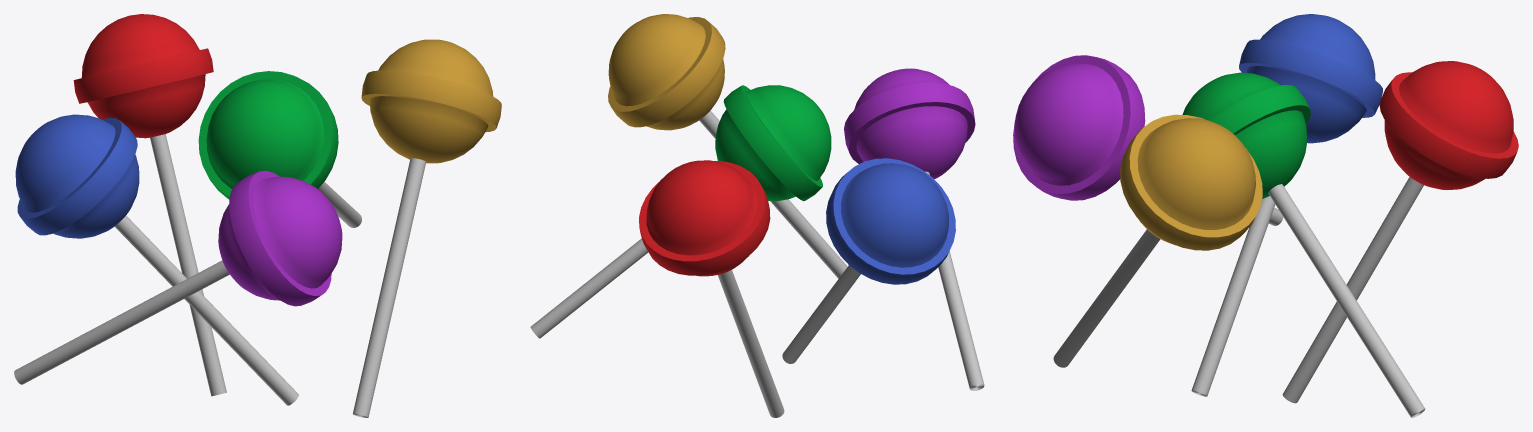
File: Candy.fbx
3 renders of one model, left to right at view 1: azimuth 30°, elevation 25°; view 2: azimuth 150°, elevation 25°; view 3: azimuth 270°, elevation 25°, orthographic. The views are drawn at different scales.
Visible parts, largest first — view 1: Cylinder.004, Cylinder.003, Cylinder.001, Cylinder, Cylinder.002; view 2: Cylinder.001, Cylinder, Cylinder.004, Cylinder.002, Cylinder.003; view 3: Cylinder, Cylinder.004, Cylinder.003, Cylinder.001, Cylinder.002.
Boxes of the visible parts, bbox=[...] form: Cylinder.004: bbox=[353, 39, 501, 417]; Cylinder.003: bbox=[14, 170, 342, 384]; Cylinder.001: bbox=[15, 114, 298, 405]; Cylinder: bbox=[73, 14, 226, 396]; Cylinder.002: bbox=[198, 71, 361, 227]; Cylinder.001: bbox=[782, 158, 955, 363]; Cylinder: bbox=[639, 160, 784, 417]; Cylinder.004: bbox=[608, 14, 847, 278]; Cylinder.002: bbox=[530, 85, 831, 338]; Cylinder.003: bbox=[844, 68, 984, 390]; Cylinder: bbox=[1282, 61, 1518, 403]; Cylinder.004: bbox=[1053, 114, 1262, 367]; Cylinder.003: bbox=[1013, 55, 1283, 225]; Cylinder.001: bbox=[1191, 14, 1382, 396]; Cylinder.002: bbox=[1182, 72, 1425, 417].
Bounding box in the file's own units: 3094 × 2358 × 2991.
